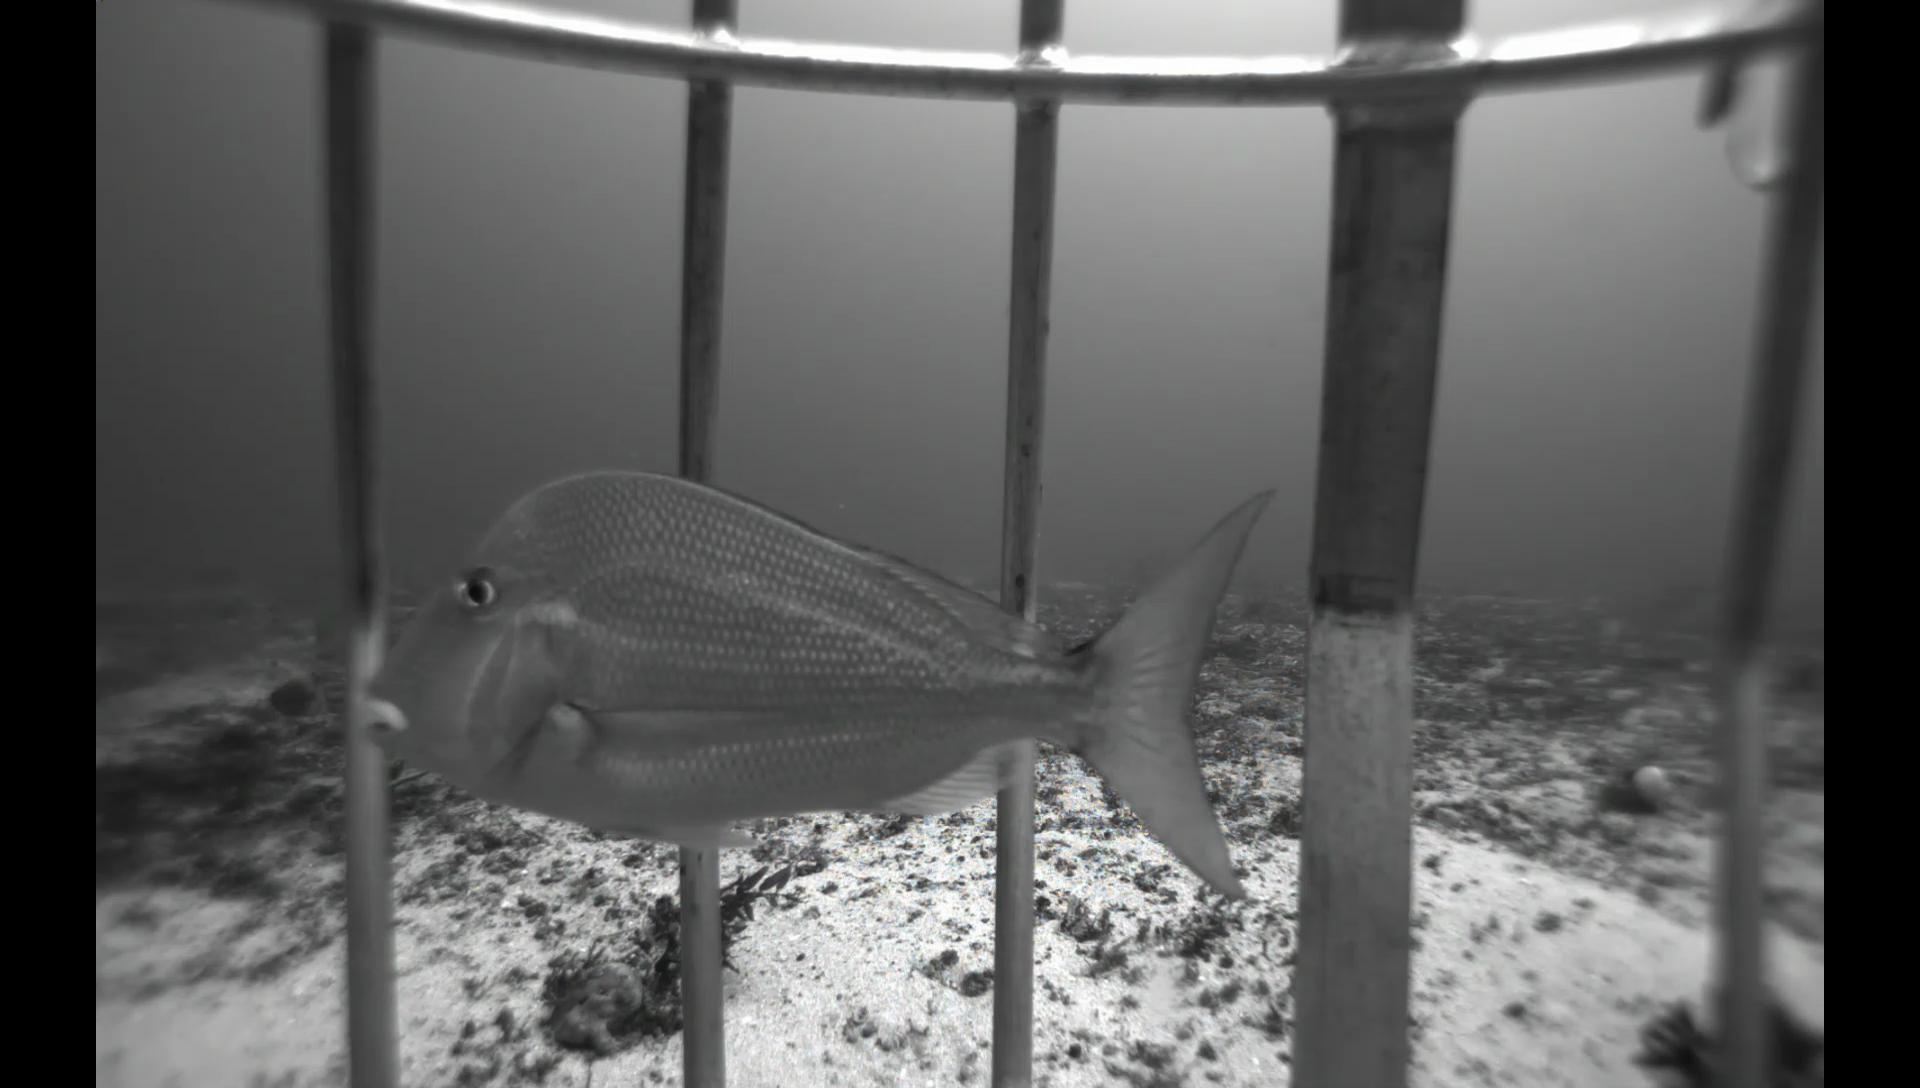CALAMUSNODOSUS-170210608: (309, 592, 340, 663)
CALAMUSPRORIDENS-170210605: (342, 454, 1298, 926)
CHAETODONOCELLATUS-170260307: (1586, 608, 1630, 648)
PRISTIGENYSALTA-170050401: (256, 667, 328, 725)
